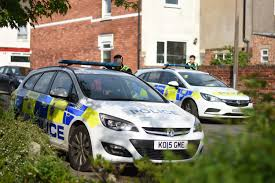special: (10, 62, 203, 173), (134, 64, 253, 123)
